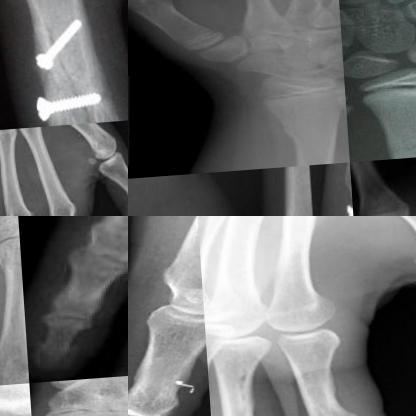fracture: (19, 8, 113, 131), (242, 78, 344, 115), (128, 175, 199, 215), (217, 365, 258, 415), (369, 122, 415, 164), (128, 380, 181, 415)
